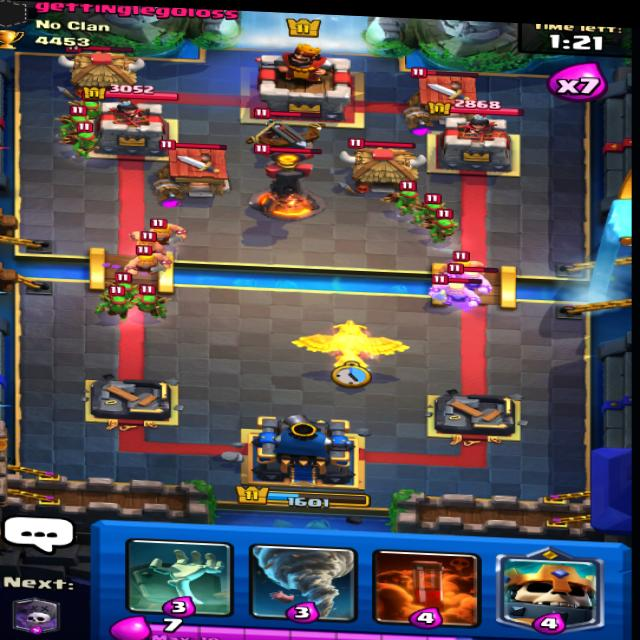barbarian: (143, 211, 190, 245), (433, 279, 488, 308), (123, 246, 174, 276), (128, 222, 172, 256), (447, 269, 506, 292), (440, 254, 488, 280)
barbarian-hut: (154, 135, 234, 196), (406, 65, 486, 125)
goblin-hut: (339, 135, 431, 201), (59, 39, 140, 96)
inferno-tower: (254, 141, 328, 218)
spear-goblin: (429, 211, 468, 244), (71, 124, 112, 155), (416, 191, 449, 226), (57, 111, 99, 138), (393, 180, 427, 213), (70, 96, 111, 122), (99, 281, 131, 314), (137, 281, 169, 312), (108, 269, 142, 295)
x-bow: (233, 99, 330, 166)
